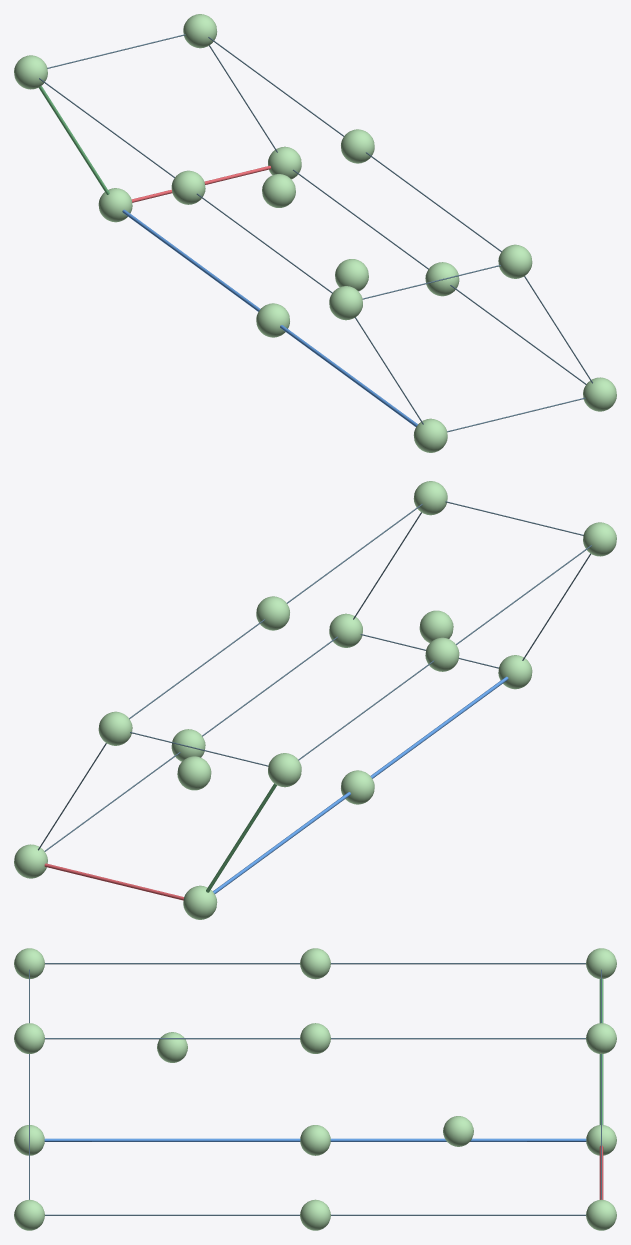
The model's file is nguyen-to-nd.glb.
The picture shows the model from 3 angles, top to bottom: view 1: azimuth 30°, elevation 25°; view 2: azimuth 150°, elevation 25°; view 3: azimuth 270°, elevation 25°; orthographic projection. The views are drawn at different scales.
Parts seen in each view (by area): view 1: Nd1 · Nd · 1 (×12), Ô mạng và các trục a, b, c, Nd2 · Nd · 1 (×2); view 2: Nd1 · Nd · 1 (×12), Ô mạng và các trục a, b, c, Nd2 · Nd · 1 (×2); view 3: Nd1 · Nd · 1 (×12), Ô mạng và các trục a, b, c, Nd2 · Nd · 1 (×2).
Part boxes in pixels (<box>): Nd1 · Nd · 1 (×12): <box>14,14,616,452</box>; Ô mạng và các trục a, b, c: <box>39,34,592,432</box>; Nd2 · Nd · 1 (×2): <box>262,174,368,291</box>; Nd1 · Nd · 1 (×12): <box>14,481,616,919</box>; Ô mạng và các trục a, b, c: <box>38,501,591,900</box>; Nd2 · Nd · 1 (×2): <box>177,610,453,790</box>; Nd1 · Nd · 1 (×12): <box>14,948,616,1230</box>; Ô mạng và các trục a, b, c: <box>29,963,603,1215</box>; Nd2 · Nd · 1 (×2): <box>157,1032,473,1146</box>.
Size of the model in its own units: 6.13 by 3.81 by 12.44.
